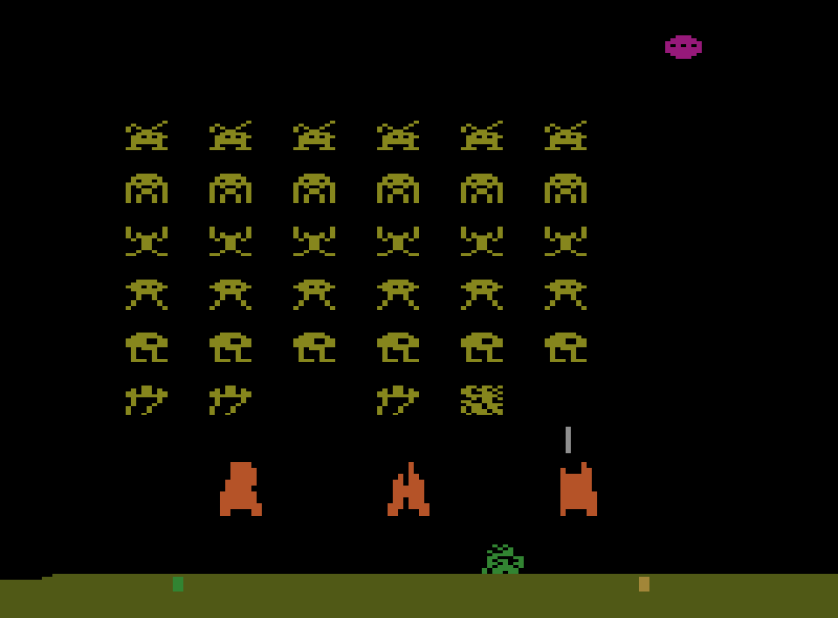bonus: (663, 34, 703, 61)
bullet: (564, 424, 573, 455)
invader1: (207, 117, 253, 152), (292, 119, 338, 152), (543, 120, 589, 152), (376, 119, 420, 152), (461, 119, 505, 152), (125, 120, 169, 152)
invader2: (207, 170, 254, 206), (124, 170, 170, 206), (460, 170, 505, 206), (375, 171, 421, 206), (292, 171, 337, 205), (542, 172, 588, 205)
invader3: (291, 224, 338, 259), (374, 224, 421, 258), (458, 225, 506, 257), (125, 224, 170, 258), (208, 224, 253, 258), (543, 225, 588, 258)
invader4: (207, 277, 254, 312), (458, 277, 505, 312), (290, 278, 337, 312), (125, 278, 170, 313), (375, 278, 420, 312), (543, 278, 588, 311)
invader5: (458, 329, 506, 364), (208, 330, 254, 366), (123, 330, 170, 365), (375, 329, 420, 365), (543, 329, 589, 364), (292, 330, 337, 365)
invader6: (375, 382, 420, 418), (458, 382, 504, 416), (207, 384, 254, 417), (124, 384, 169, 418)
player: (480, 541, 526, 575)
